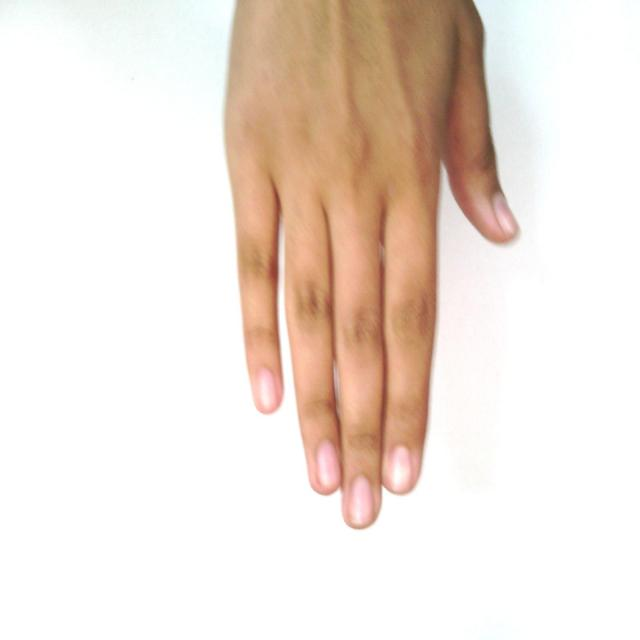others: (181, 1, 561, 546)
